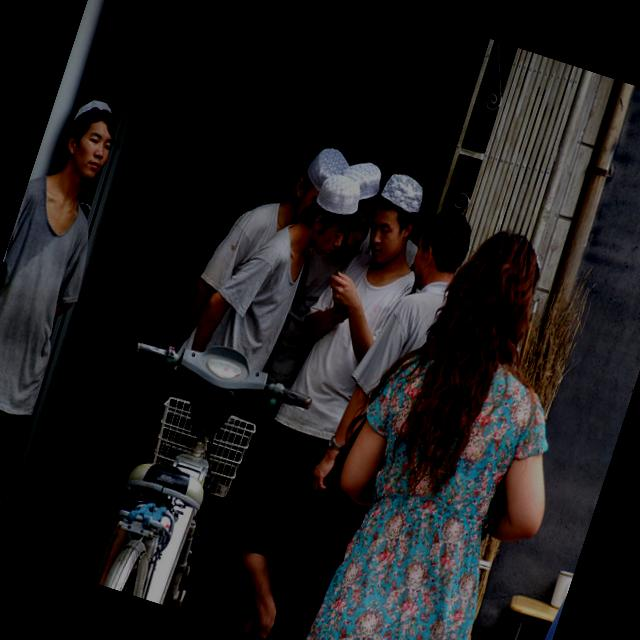Vehicle: (60, 314, 328, 632)
